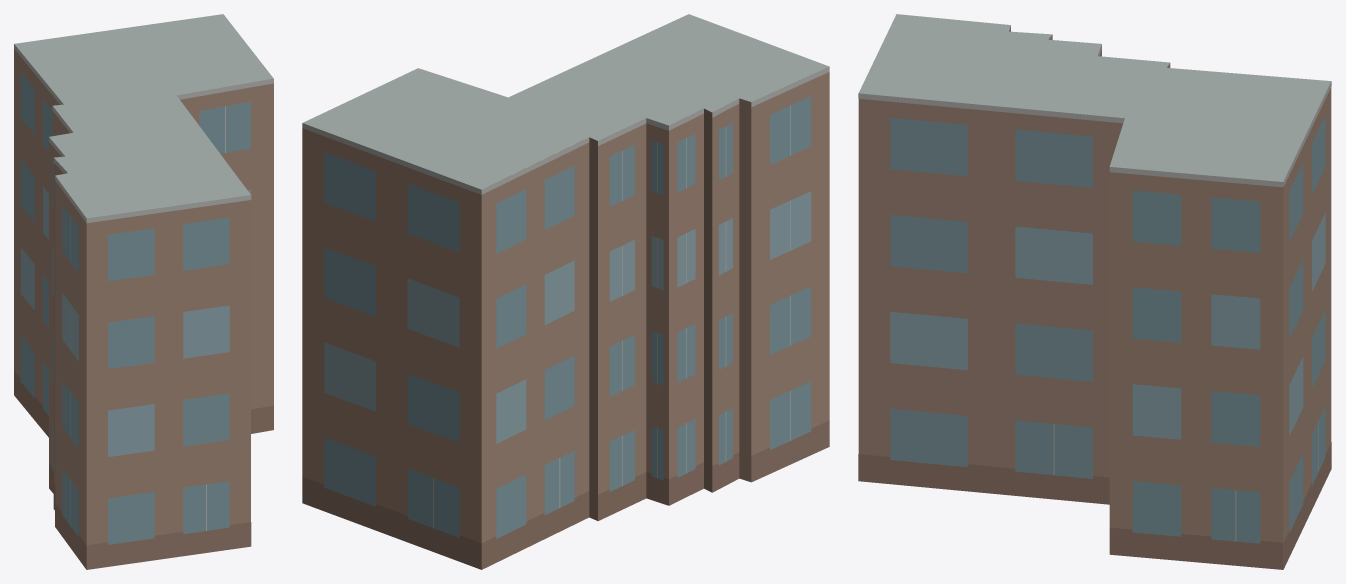
File: survey-upis-32476794.glb
3 views of the same model, side by side, from view 1: azimuth 30°, elevation 25°; view 2: azimuth 150°, elevation 25°; view 3: azimuth 270°, elevation 25° (orthographic). The views are drawn at different scales.
Parts seen in each view (by area): view 1: survey-upis-32476794.tmp; view 2: survey-upis-32476794.tmp; view 3: survey-upis-32476794.tmp.
Boxes of the visible parts, x1=… form: survey-upis-32476794.tmp: x1=14, y1=14, x2=273, y2=569; survey-upis-32476794.tmp: x1=302, y1=14, x2=829, y2=569; survey-upis-32476794.tmp: x1=858, y1=14, x2=1331, y2=569.
Bounding box in the file's own units: 16.6 × 17.85 × 19.74.
